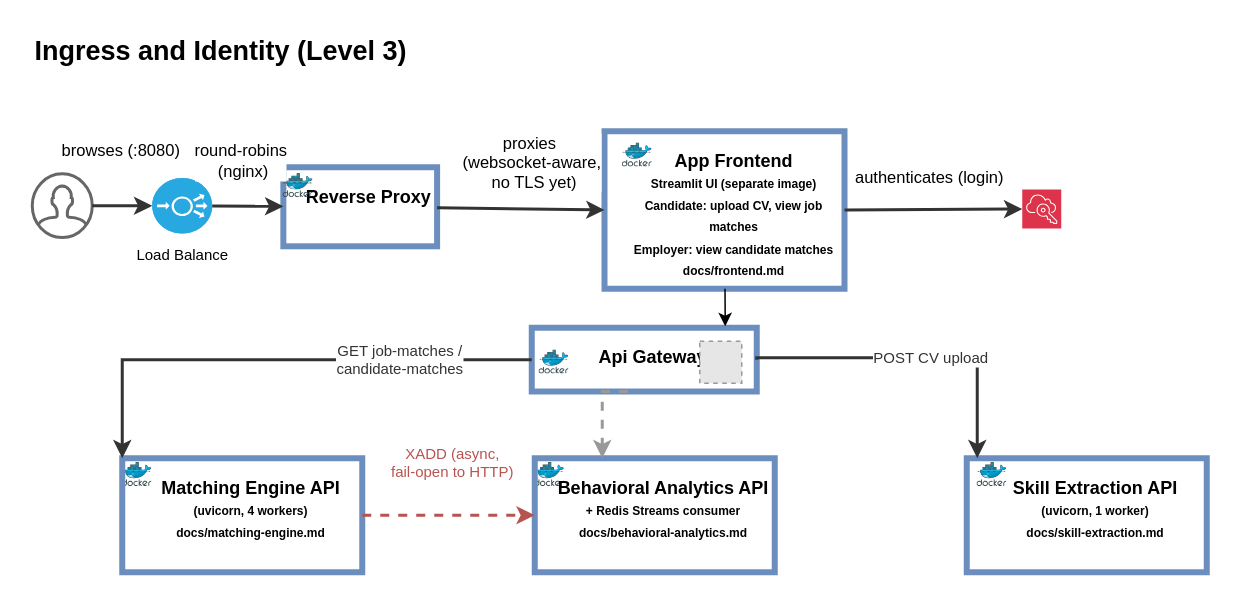
This 1235x600 diagram has some shape labels left out. Grey dashed boxes stand in for pictures. Each missing label, with the centre of its shape:
Candidate Employer Recruiter: (61,205)
SSO / ID: (1041,208)
